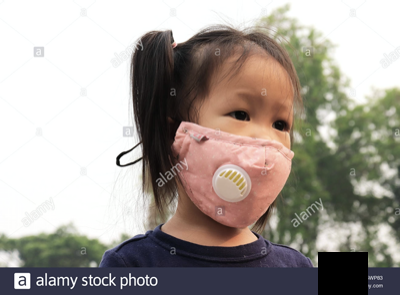with_mask: (173, 88, 296, 231)
